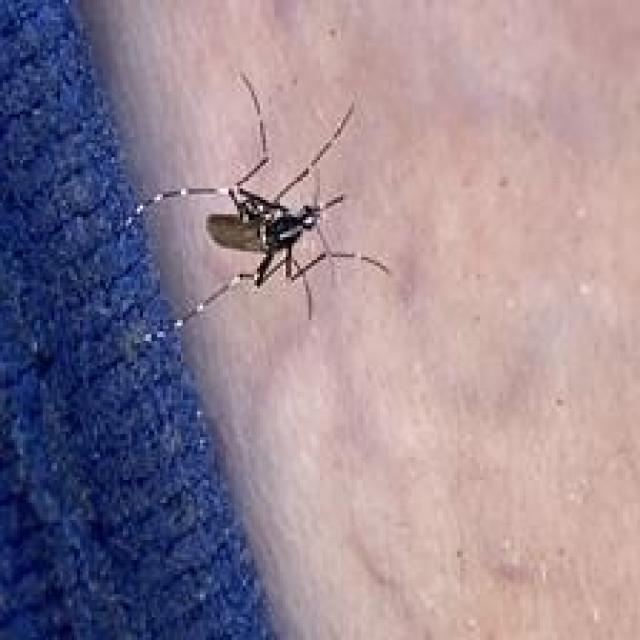Aedes albopictus: (126, 70, 391, 350)
